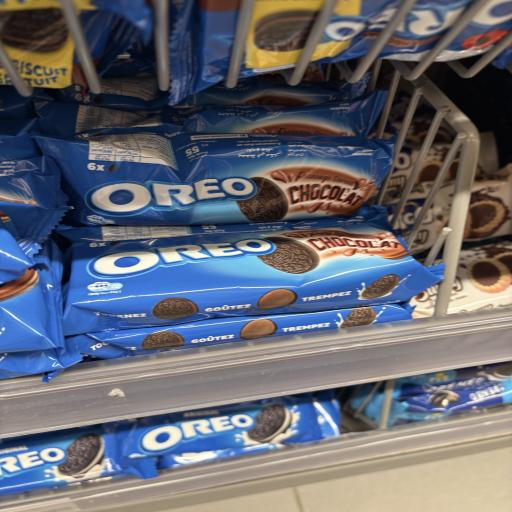oreo: (48, 207, 438, 328), (14, 110, 394, 212)
